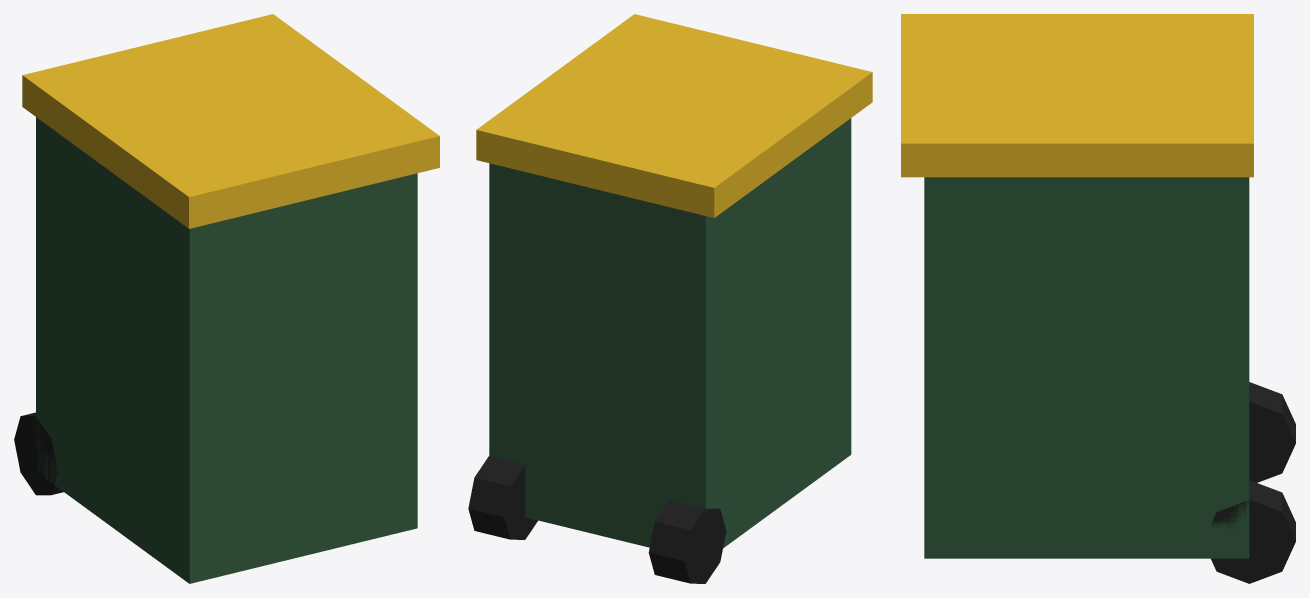
The model's file is wheelie_bin.glb.
The picture shows the model from 3 angles, left to right: view 1: azimuth 30°, elevation 25°; view 2: azimuth 150°, elevation 25°; view 3: azimuth 270°, elevation 25°; orthographic projection. The views are drawn at different scales.
Parts seen in each view (by area): view 1: wheelie_bin2; view 2: wheelie_bin2; view 3: wheelie_bin2.
Part boxes in pixels (left/top/right/bottom): wheelie_bin2: left=14, top=14, right=439, bottom=583; wheelie_bin2: left=468, top=14, right=872, bottom=583; wheelie_bin2: left=901, top=14, right=1295, bottom=583.
Bounding box in the file's own units: 0.66 × 1.06 × 0.85.
